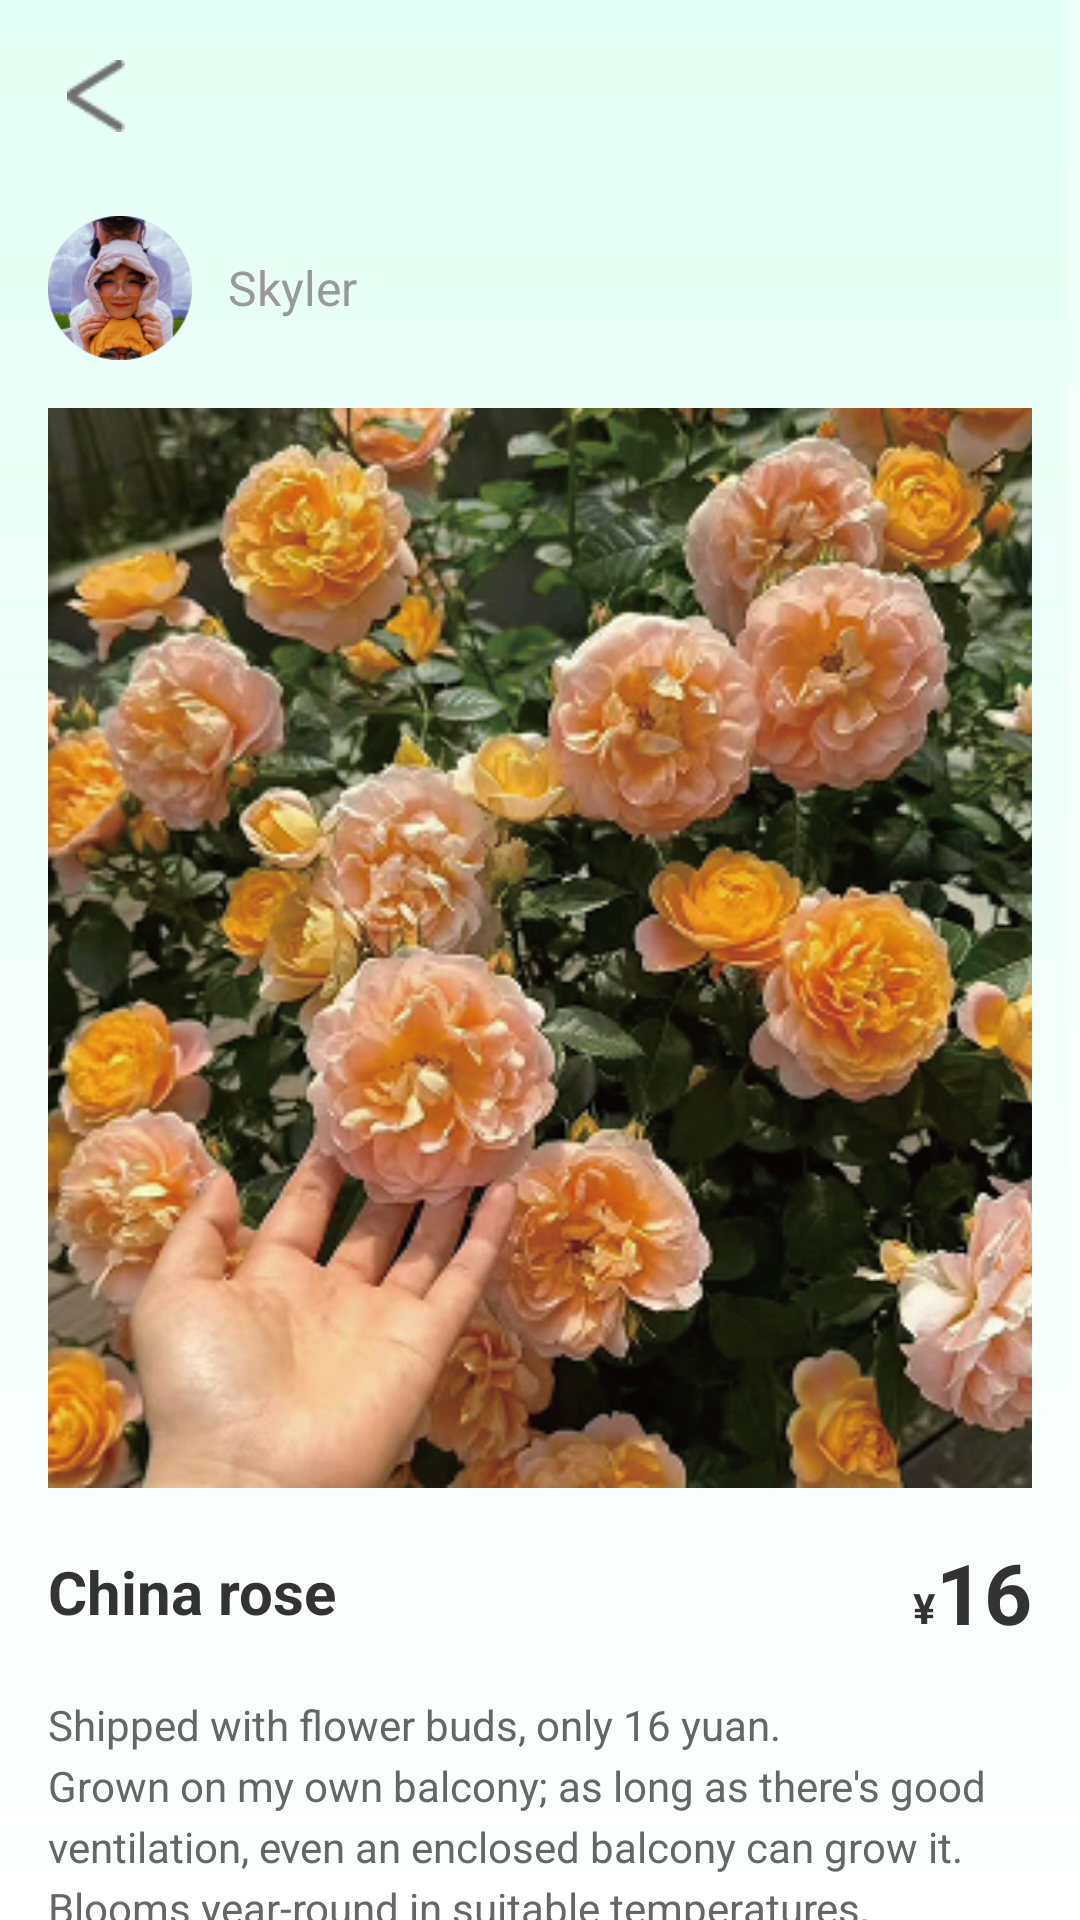

Icons on this 1080px×1920px Android screen, each with its box as (x1, y1, x2, y2):
back: (67, 60, 125, 132)
